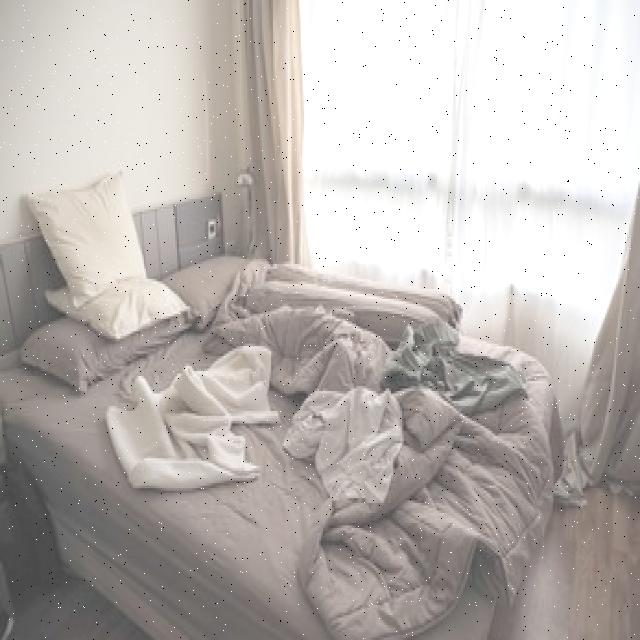bed: (0, 164, 566, 640)
